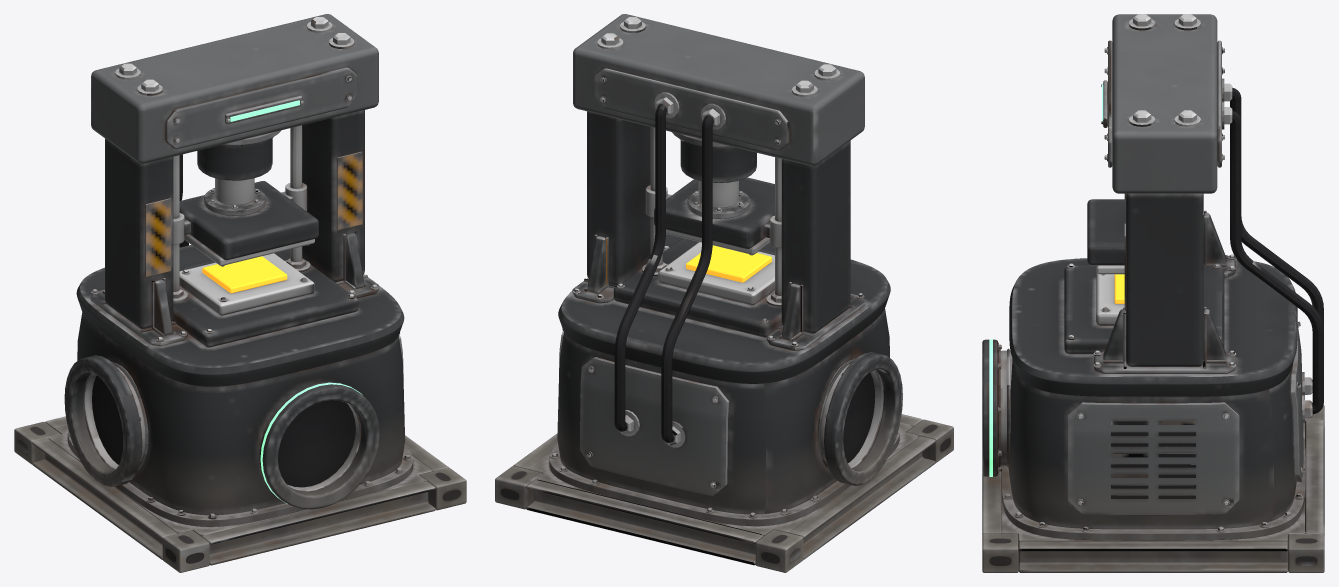
File: SM_Constructor.glb
The picture shows the model from 3 angles, left to right: view 1: azimuth 30°, elevation 25°; view 2: azimuth 150°, elevation 25°; view 3: azimuth 270°, elevation 25°; orthographic projection. The views are drawn at different scales.
Parts seen in each view (by area): view 1: SM_Constructor, SM_Constructor_Ram; view 2: SM_Constructor, SM_Constructor_Ram; view 3: SM_Constructor, SM_Constructor_Ram.
Boxes of the visible parts, left/top/right/bottom form: SM_Constructor: left=14, top=14, right=466, bottom=572; SM_Constructor_Ram: left=173, top=178, right=318, bottom=266; SM_Constructor: left=495, top=14, right=953, bottom=572; SM_Constructor_Ram: left=645, top=177, right=781, bottom=255; SM_Constructor: left=982, top=14, right=1324, bottom=572; SM_Constructor_Ram: left=1087, top=199, right=1125, bottom=275.
Size of the model in its own units: 1.5 by 2.11 by 1.5.
8 materials, 6 textured.
